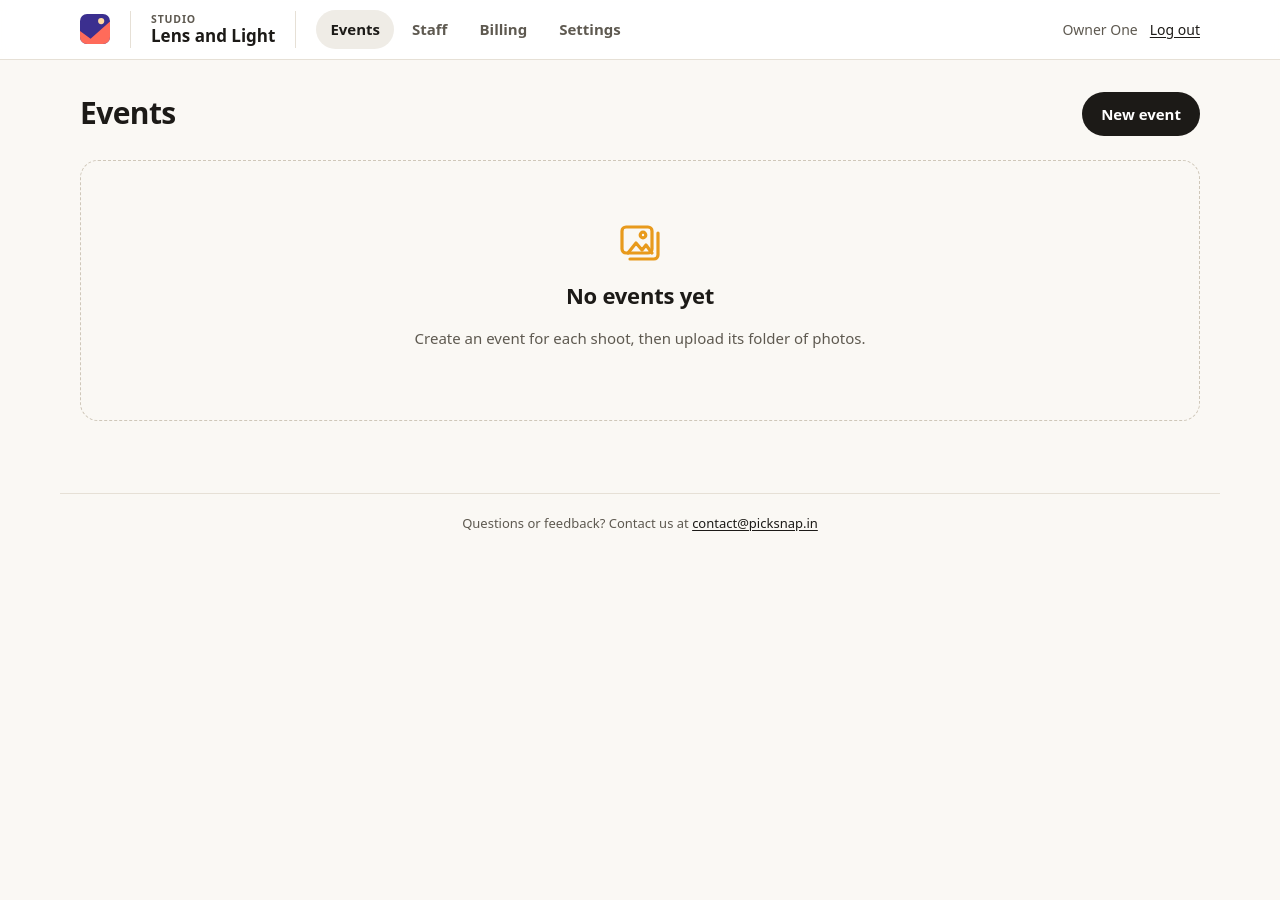
Test: events › shows the plan limit when a new event is refused
Expected: the heading "No events yet" is shown, [566,280,714,310]
Click the button "New event": (1141, 114) [1082,92,1200,136]
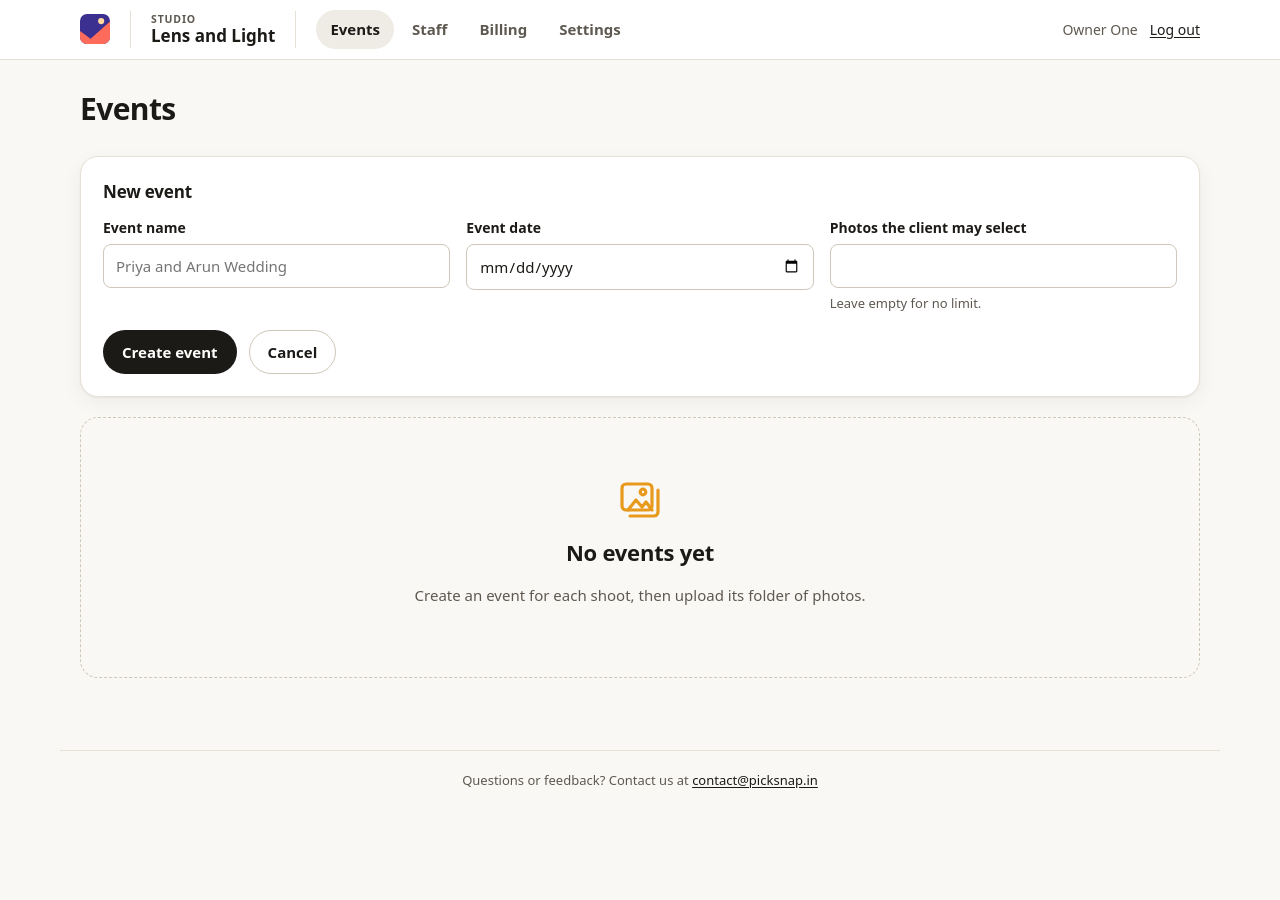
In the field labelled "Event name": (277, 266) [103,244,450,288], type "Second event"
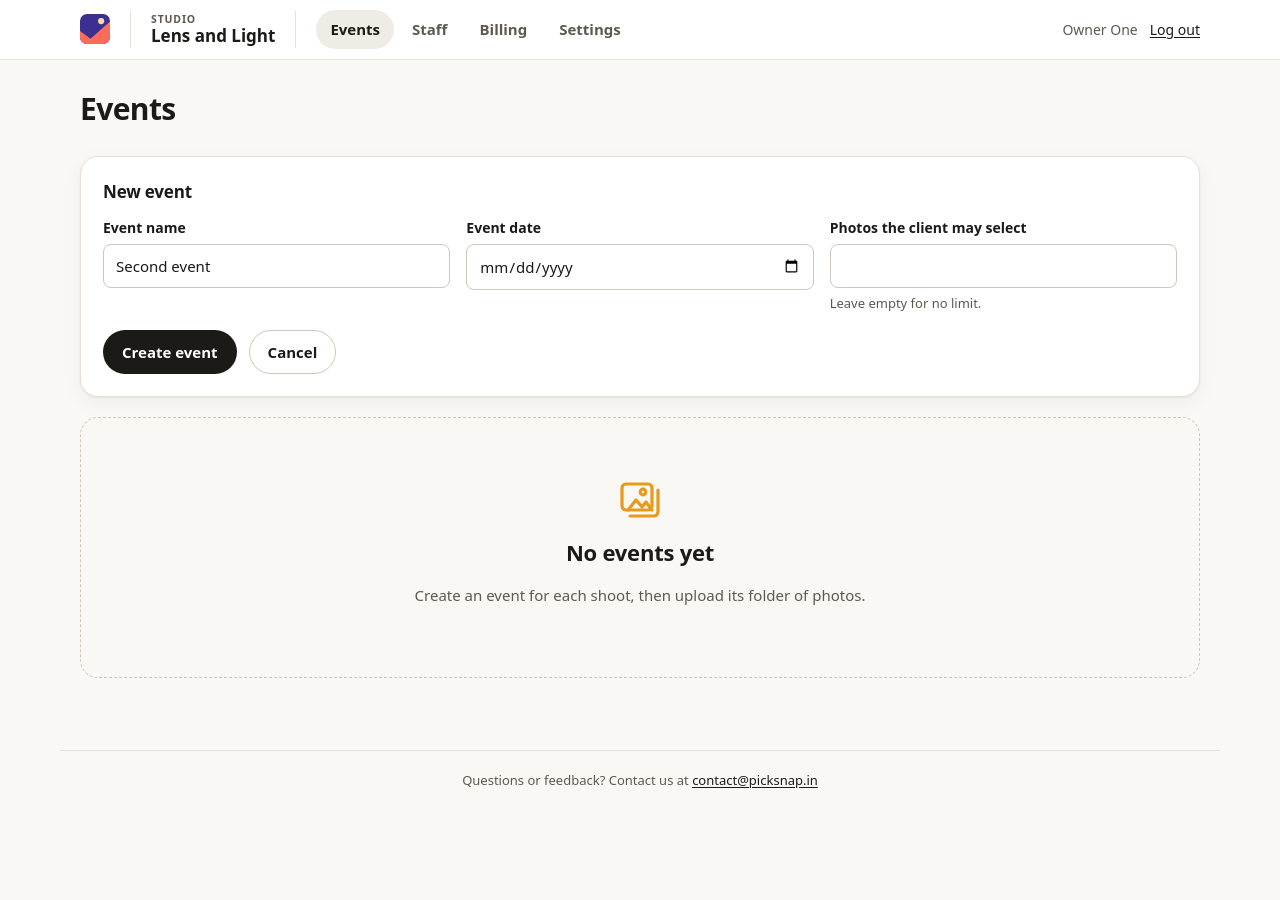
Click the button "Create event": (170, 352) [103,330,237,374]
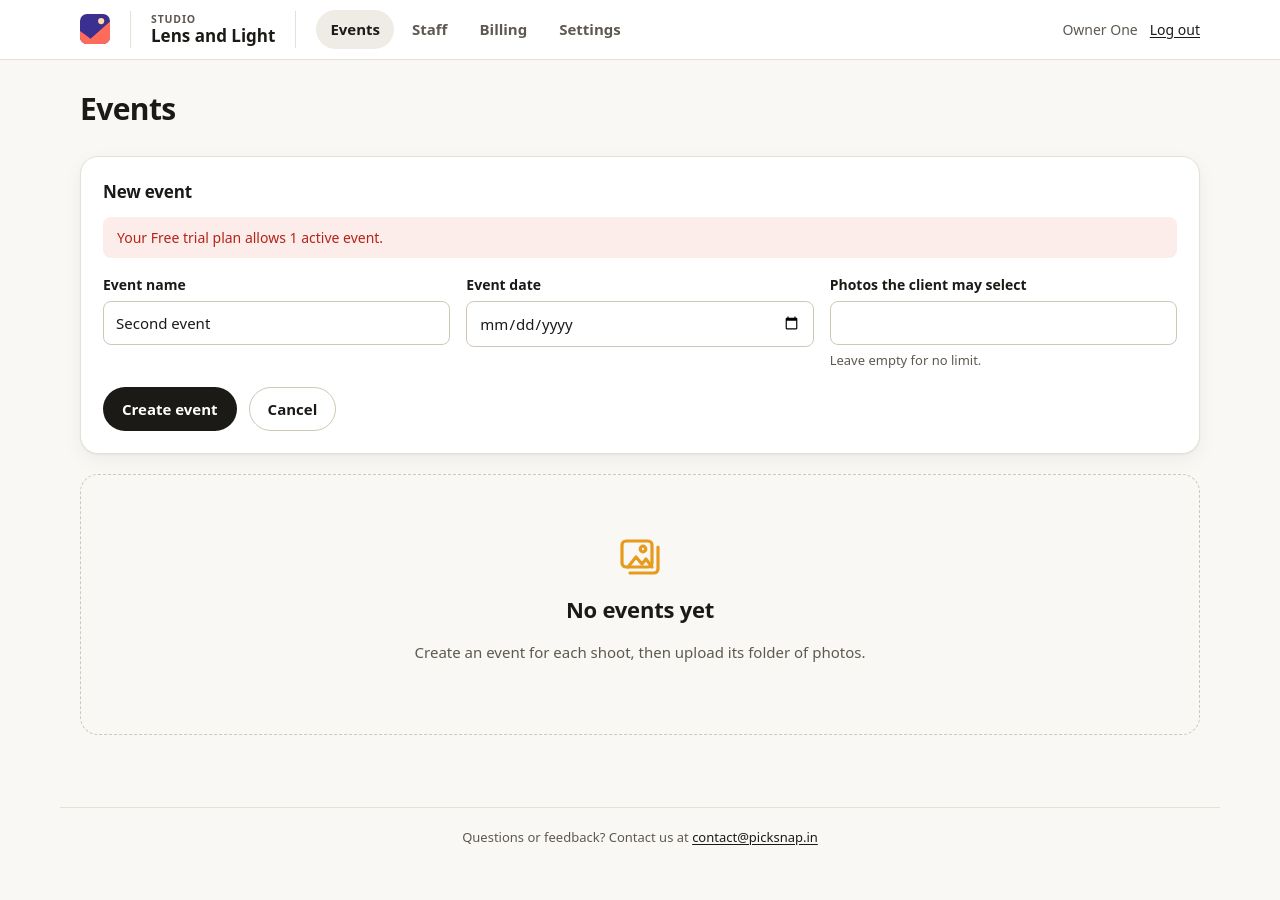
Result: the message shows "allows 1 active event" at [117,228,383,246]
